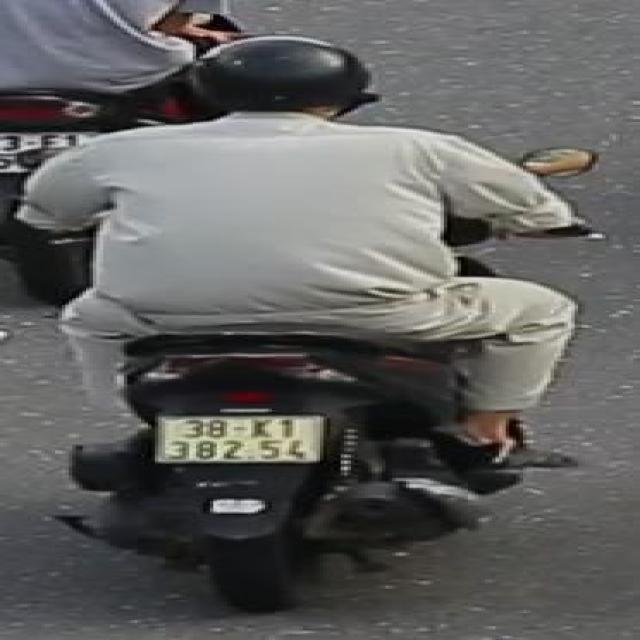LP: (144, 409, 330, 466)
helmet: (160, 28, 394, 138)
